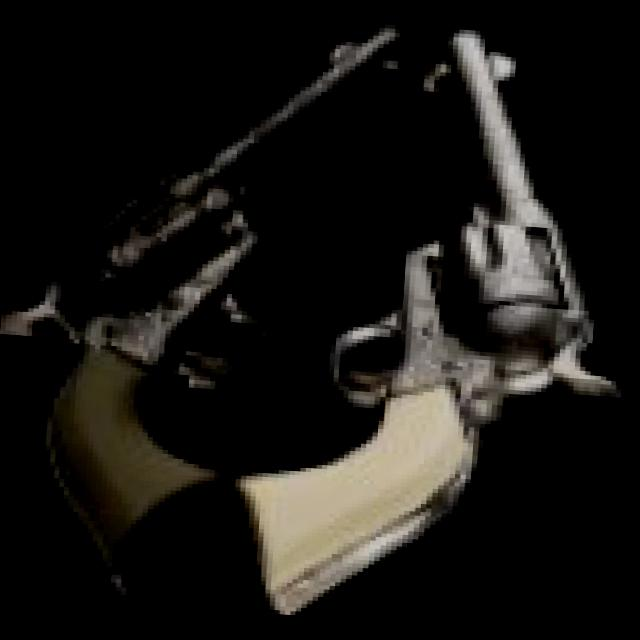handgun: (241, 13, 639, 638)
